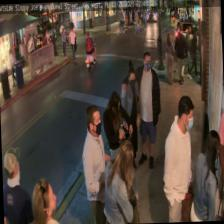person: (159, 95, 197, 222), (100, 89, 134, 206), (79, 103, 111, 224), (186, 129, 223, 221), (134, 50, 162, 167), (100, 140, 139, 224), (1, 144, 33, 224), (119, 59, 142, 170), (27, 177, 64, 224), (163, 32, 175, 82)
